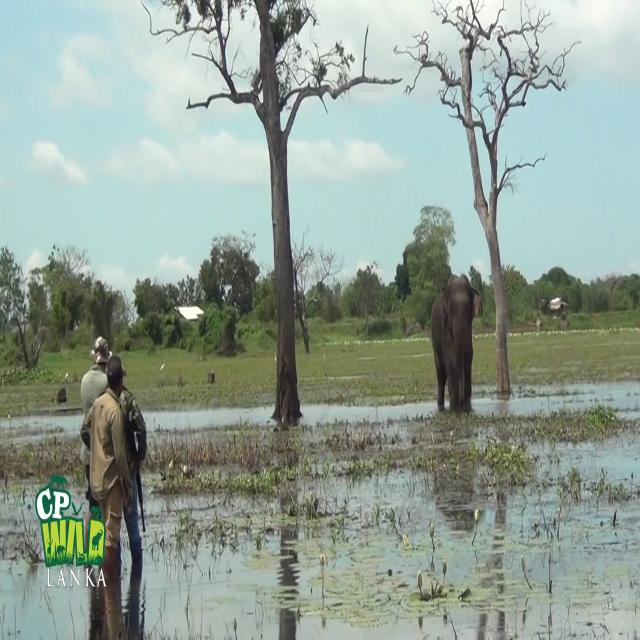Elephant: (431, 273, 483, 414)
person: (86, 354, 133, 580), (79, 336, 112, 554)
